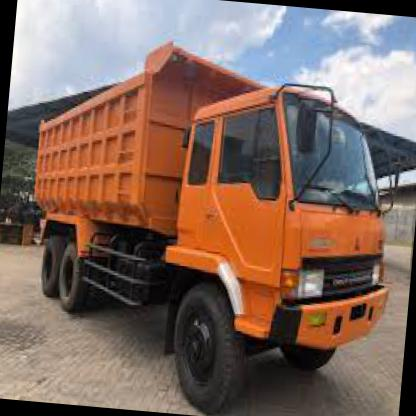truck: (149, 71, 407, 416)
